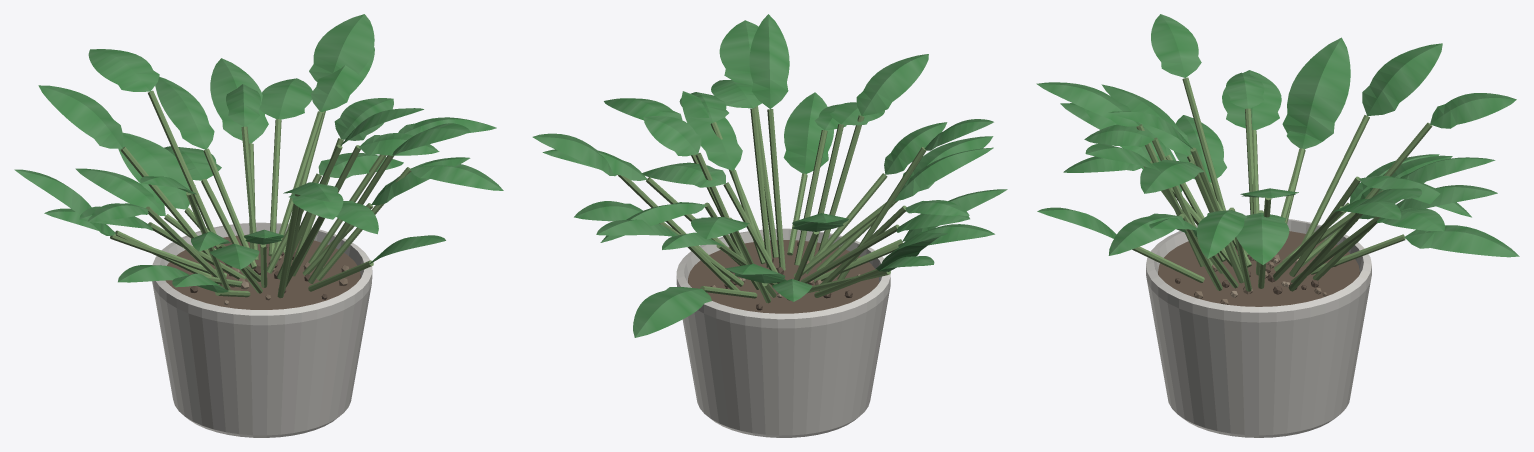
Rendered from philodendron_LUMA_3D.glb.
The picture shows the model from 3 angles, left to right: view 1: azimuth 30°, elevation 25°; view 2: azimuth 150°, elevation 25°; view 3: azimuth 270°, elevation 25°; orthographic projection. The views are drawn at different scales.
Parts seen in each view (by area): view 1: world; view 2: world; view 3: world.
Boxes of the visible parts, left/top/right/bottom form: world: left=14, top=14, right=503, bottom=437; world: left=532, top=14, right=1007, bottom=437; world: left=1036, top=14, right=1519, bottom=437.
Size of the model in its own units: 1.84 by 1.37 by 1.8.
